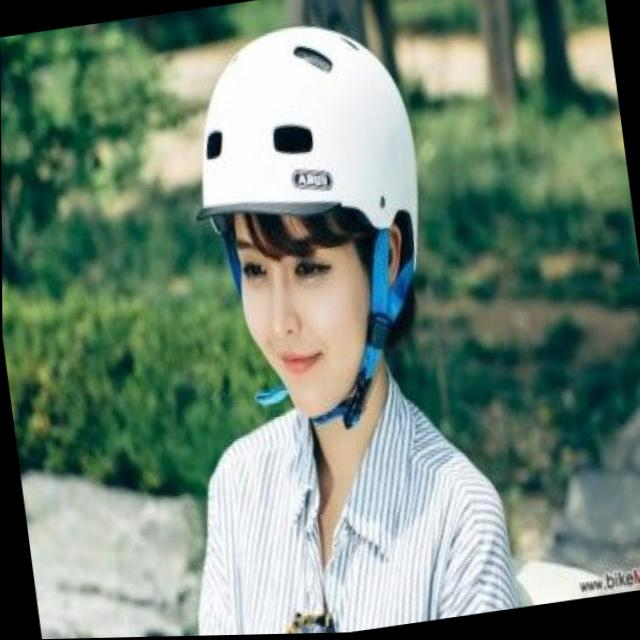helmet: (171, 7, 449, 450)
